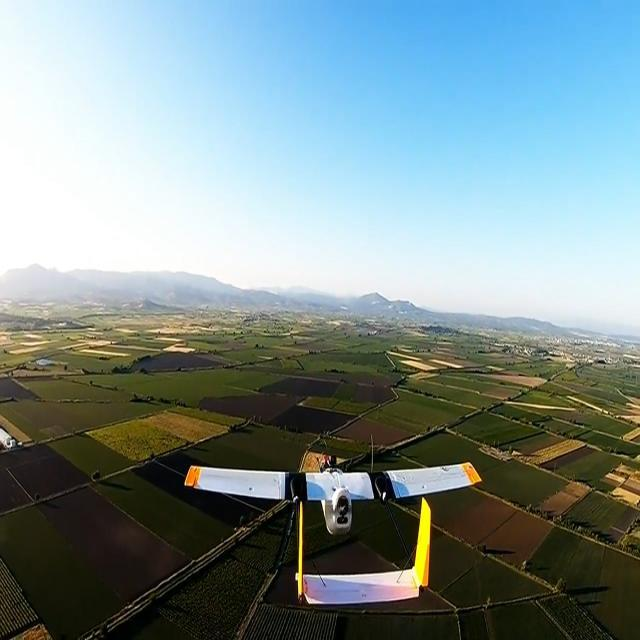iha: (178, 439, 491, 619)
